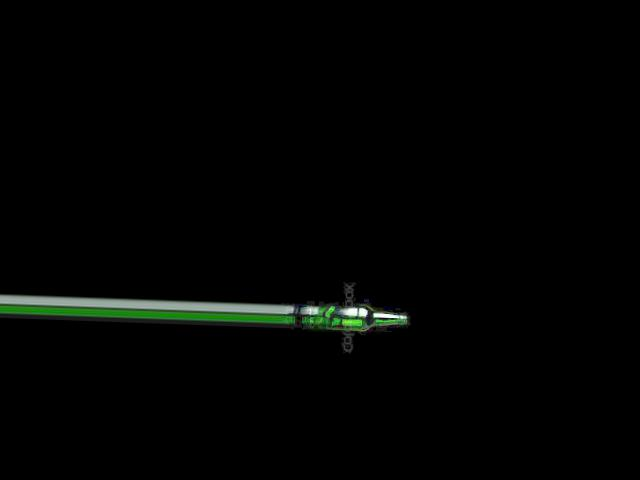beer: (308, 305, 407, 332)
